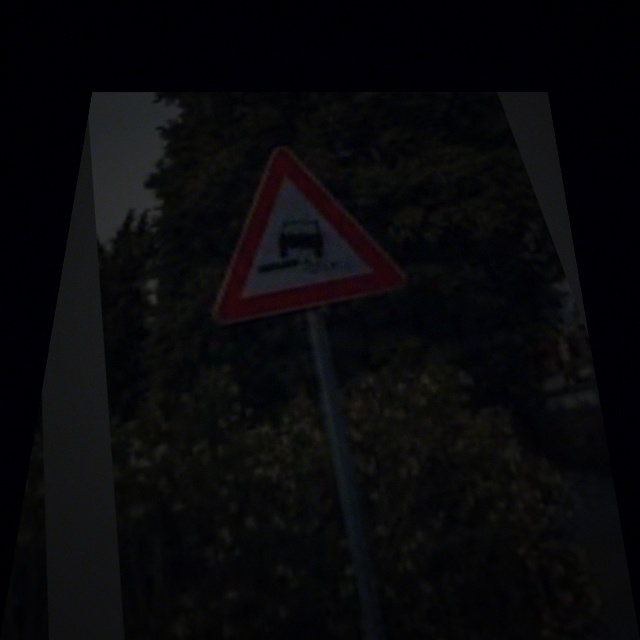Loose_Gravel: (178, 127, 410, 322)
